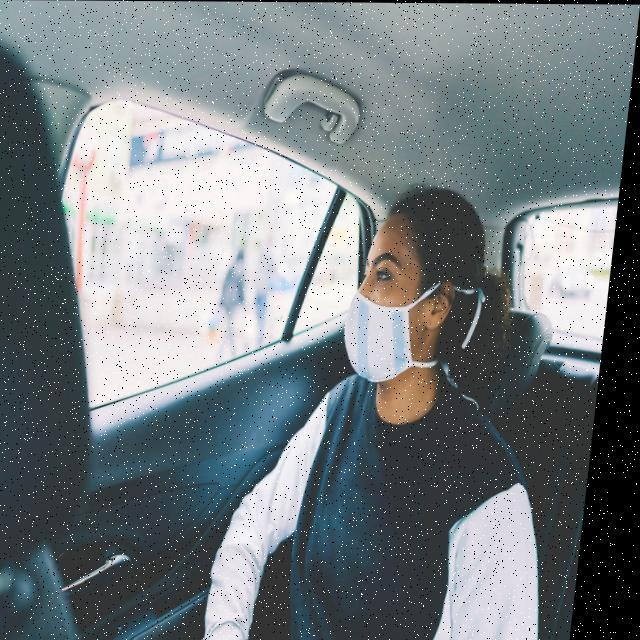noSeatbelt: (266, 368, 548, 640)
